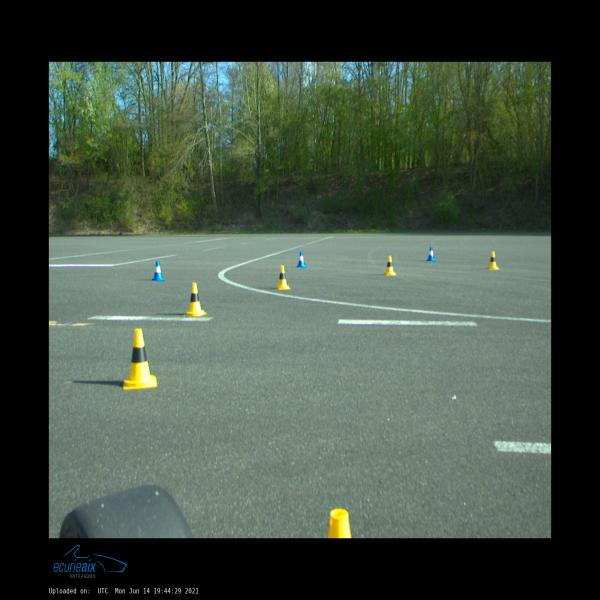blue_cone: (152, 261, 166, 281), (296, 252, 306, 268), (427, 247, 436, 261)
yellow_cone: (122, 328, 157, 389), (184, 283, 207, 317), (276, 265, 291, 290), (384, 256, 397, 275), (488, 251, 499, 270)
